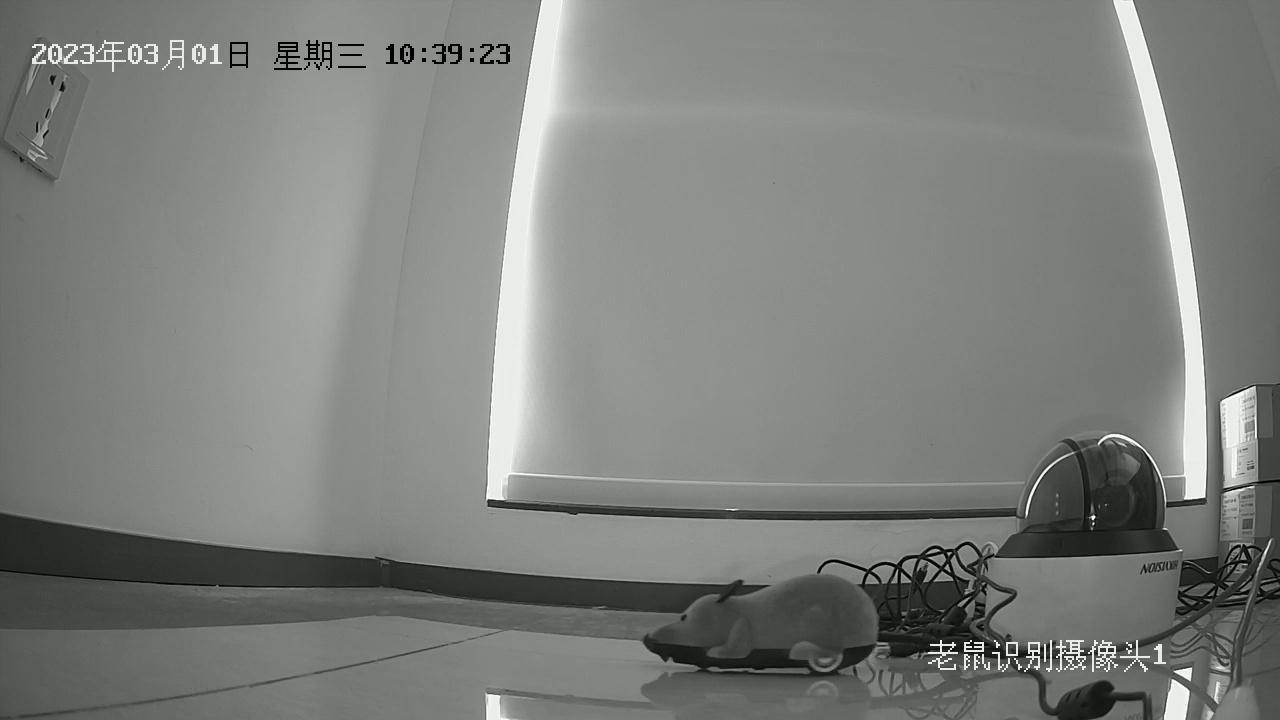rat: (644, 573, 914, 678)
